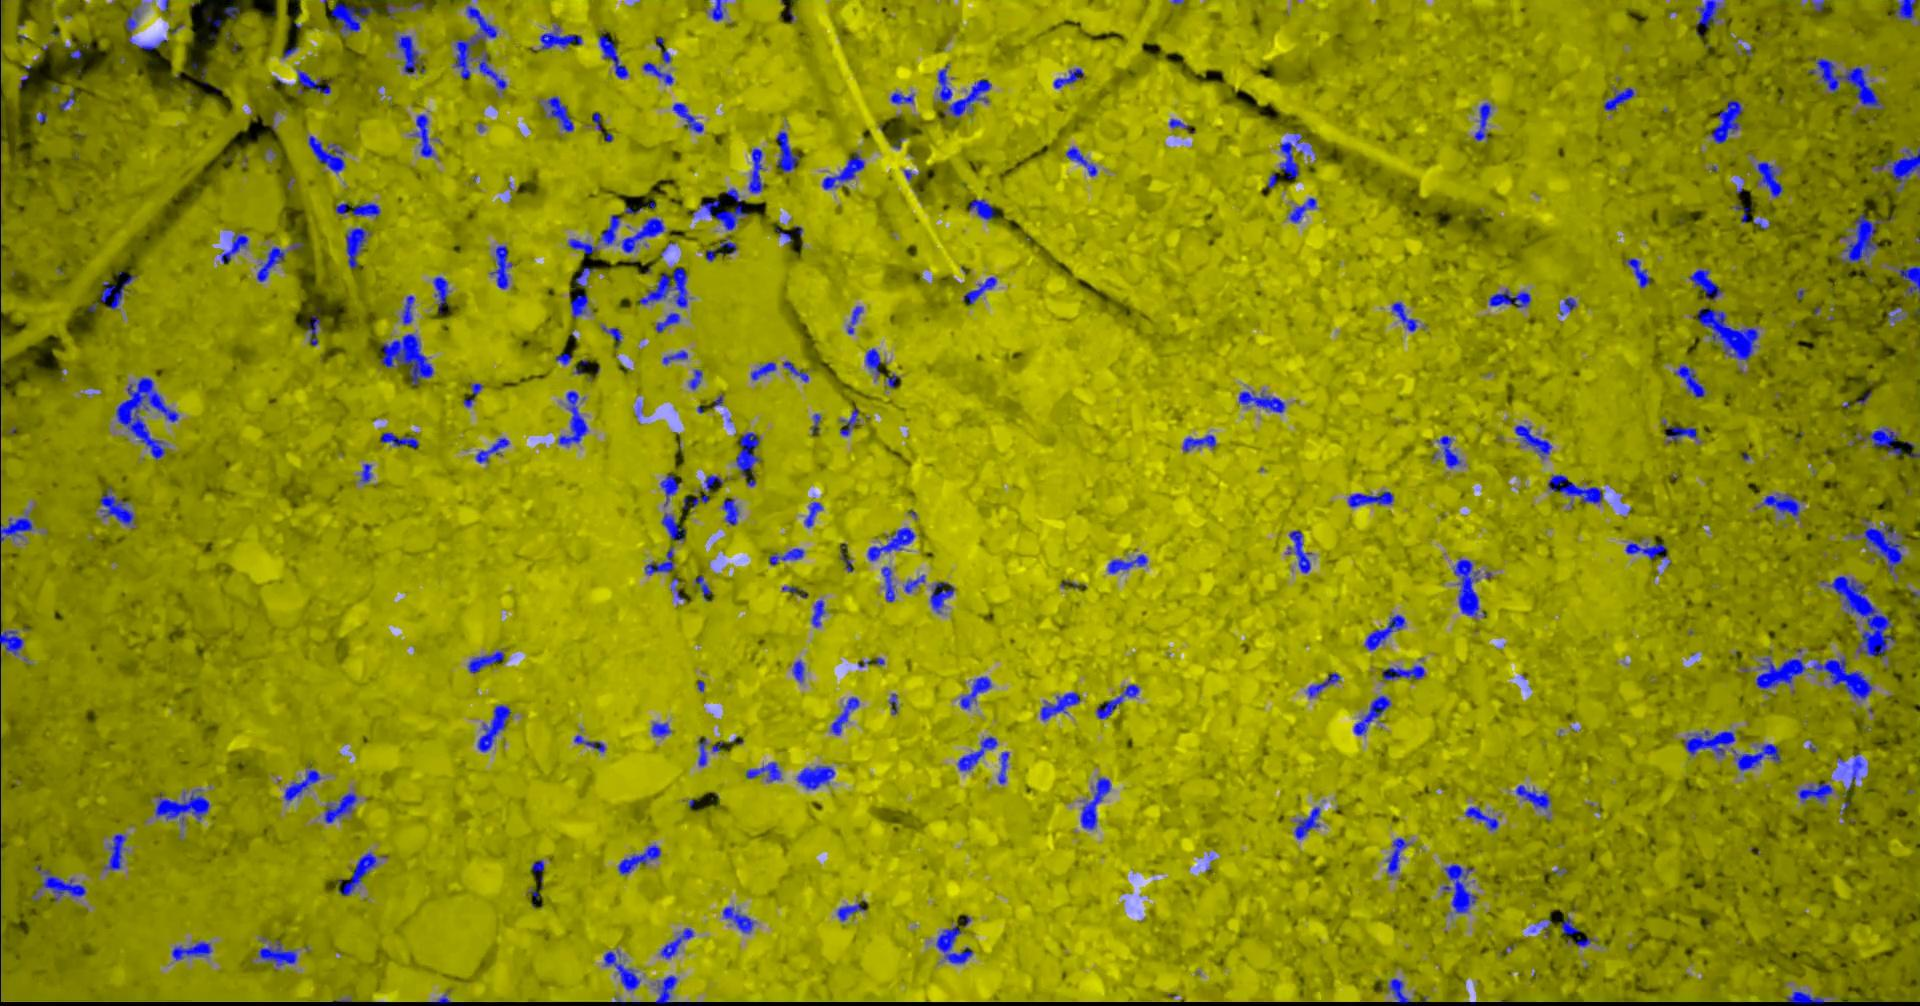ant: (453, 5, 497, 77), (937, 64, 990, 116), (1840, 212, 1893, 263), (1812, 655, 1870, 699), (1862, 517, 1902, 573), (154, 788, 210, 826), (1870, 149, 1919, 191), (637, 267, 687, 307), (700, 188, 747, 230), (1453, 559, 1484, 616), (124, 8, 168, 50), (337, 852, 376, 895), (1441, 864, 1476, 913), (822, 151, 863, 189), (557, 390, 587, 445), (1547, 474, 1601, 503), (866, 527, 914, 560), (477, 704, 510, 752), (1079, 777, 1110, 829), (1755, 657, 1804, 688), (1352, 695, 1390, 734), (1364, 614, 1404, 650), (603, 949, 640, 989), (621, 217, 664, 251), (39, 869, 85, 901), (1096, 683, 1138, 718), (598, 30, 629, 77), (1710, 99, 1742, 144), (99, 485, 135, 525), (1683, 730, 1735, 757), (330, 3, 373, 34), (283, 765, 320, 801), (935, 926, 971, 963), (957, 735, 997, 770), (1855, 427, 1901, 456), (735, 432, 759, 486), (617, 843, 660, 874), (309, 135, 344, 171), (1732, 743, 1780, 770), (1514, 426, 1550, 459), (1039, 691, 1079, 720), (100, 276, 136, 309), (477, 50, 505, 90), (538, 24, 582, 50), (830, 696, 858, 734), (1672, 365, 1704, 398), (659, 927, 693, 958), (258, 939, 296, 965), (345, 227, 370, 269), (0, 511, 32, 542), (959, 676, 990, 708), (1688, 269, 1721, 300), (543, 97, 573, 131), (323, 793, 357, 822), (1238, 390, 1284, 412), (397, 36, 424, 72), (775, 131, 799, 171), (672, 102, 703, 132), (411, 114, 434, 156), (257, 246, 284, 281), (1288, 530, 1310, 572), (1756, 161, 1783, 197), (1065, 146, 1096, 177), (963, 276, 996, 304), (1761, 493, 1799, 517), (796, 765, 834, 789), (296, 69, 331, 94), (1515, 784, 1550, 809), (1293, 807, 1319, 840), (490, 245, 510, 288), (1843, 753, 1863, 796), (475, 437, 509, 462), (1305, 672, 1340, 697), (1385, 837, 1410, 873), (644, 546, 673, 575), (723, 906, 754, 932), (1436, 434, 1462, 467), (220, 232, 248, 262), (1390, 301, 1417, 332), (1488, 288, 1530, 307), (1464, 807, 1498, 829), (104, 833, 126, 869), (1603, 86, 1634, 111), (930, 580, 954, 612), (1347, 490, 1393, 507), (1107, 554, 1147, 573), (171, 941, 211, 960), (467, 652, 504, 672), (1624, 258, 1650, 287), (748, 149, 764, 193), (705, 238, 737, 260), (745, 761, 781, 781), (1288, 197, 1316, 222), (1279, 141, 1298, 178), (643, 61, 673, 84), (0, 625, 23, 655), (1625, 542, 1667, 559), (1897, 265, 1919, 297), (654, 976, 677, 1005), (598, 213, 620, 244), (1798, 782, 1832, 801), (1695, 0, 1719, 27), (1474, 102, 1491, 140), (380, 432, 418, 448), (1053, 67, 1083, 88), (662, 513, 684, 540), (768, 547, 803, 565), (1387, 978, 1410, 1005), (659, 474, 678, 506), (1382, 666, 1423, 680), (969, 198, 996, 220), (1665, 426, 1697, 443), (1182, 434, 1215, 451), (433, 276, 448, 311), (839, 406, 858, 434), (1785, 991, 1823, 1005), (573, 734, 604, 751), (836, 903, 865, 921), (782, 361, 808, 381), (601, 324, 622, 347), (568, 238, 597, 254), (804, 500, 822, 527), (846, 306, 862, 334), (655, 312, 679, 332), (463, 382, 483, 406), (750, 362, 776, 380), (1895, 0, 1916, 20), (881, 567, 894, 601), (569, 293, 587, 318), (655, 36, 670, 64), (863, 348, 880, 373), (575, 265, 596, 286), (350, 202, 380, 216), (723, 498, 738, 525), (306, 314, 319, 345), (401, 295, 414, 324), (997, 751, 1008, 782), (709, 0, 726, 20), (904, 574, 924, 592), (662, 351, 687, 365), (683, 494, 709, 508), (811, 600, 824, 627), (58, 88, 74, 111), (695, 575, 710, 598), (703, 474, 723, 492), (1559, 916, 1578, 934), (1733, 205, 1749, 222), (1559, 297, 1575, 315), (697, 735, 706, 766), (386, 3, 405, 17), (651, 721, 670, 735), (890, 91, 913, 103), (792, 659, 804, 682), (1887, 307, 1901, 325), (688, 370, 701, 389), (839, 553, 852, 572), (810, 413, 820, 434), (428, 995, 450, 1005), (1263, 171, 1276, 188), (555, 352, 571, 365), (1168, 118, 1189, 128), (359, 464, 371, 481), (223, 6, 239, 18), (592, 111, 601, 130), (531, 859, 543, 871), (334, 203, 349, 213), (889, 694, 897, 714)
